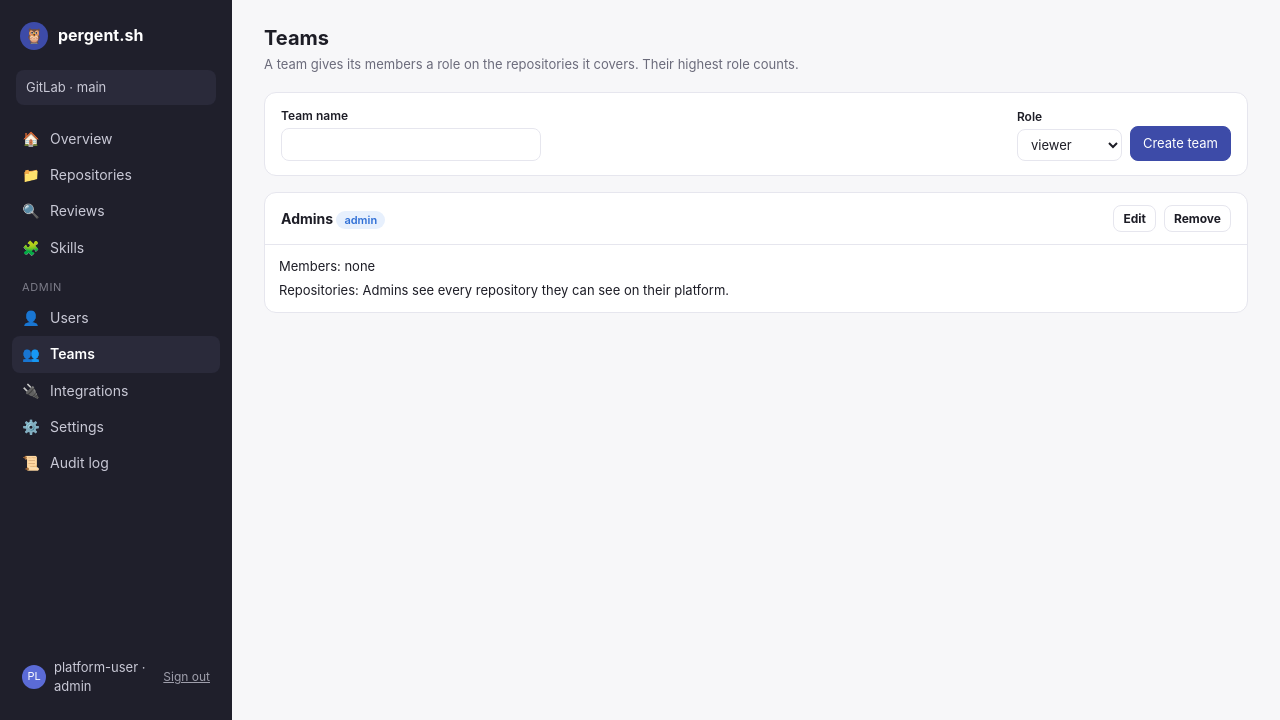
Scenario: Teams › hides the repositories of an admin team
This screenshot has width=1280, height=720.
Click the button "Edit": (1135, 219) top-left (1113, 205), bottom-right (1156, 232)
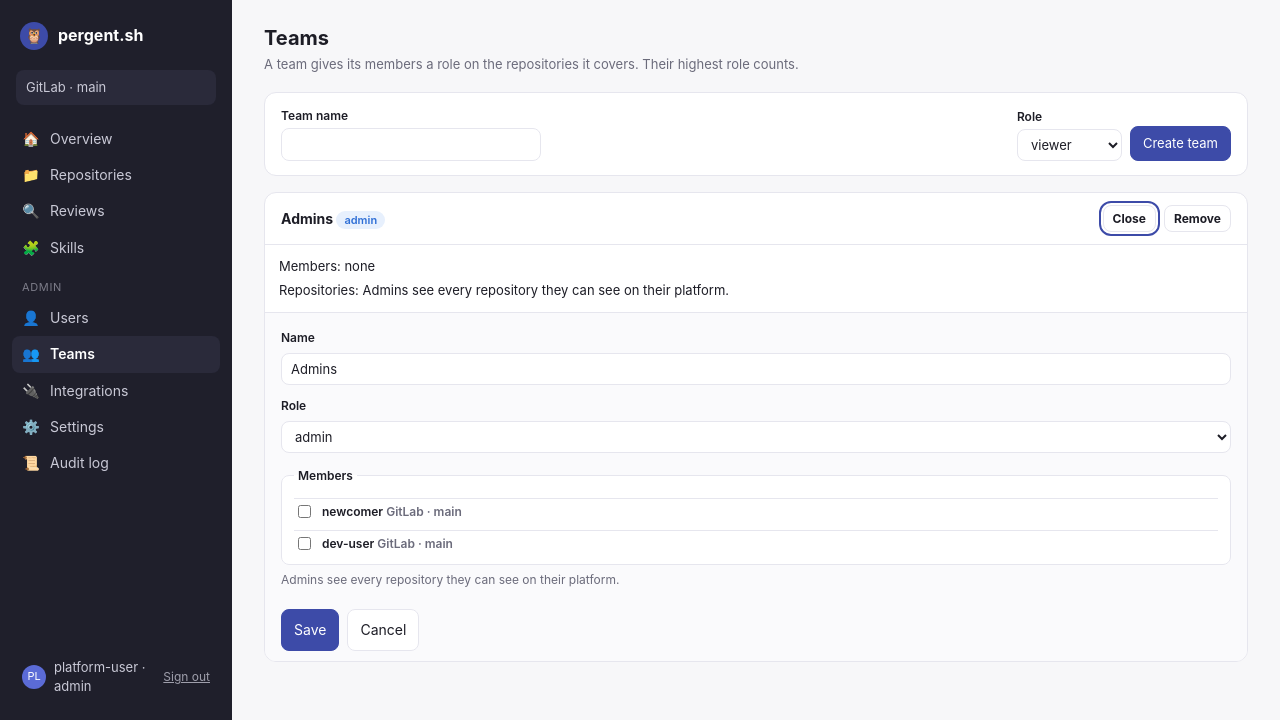
expect the text "Admins see every repository they can see on their platform." is shown: met, box top-left (281, 572), bottom-right (619, 587)
expect the element "Members" is shown: met, box top-left (281, 467), bottom-right (1231, 565)
